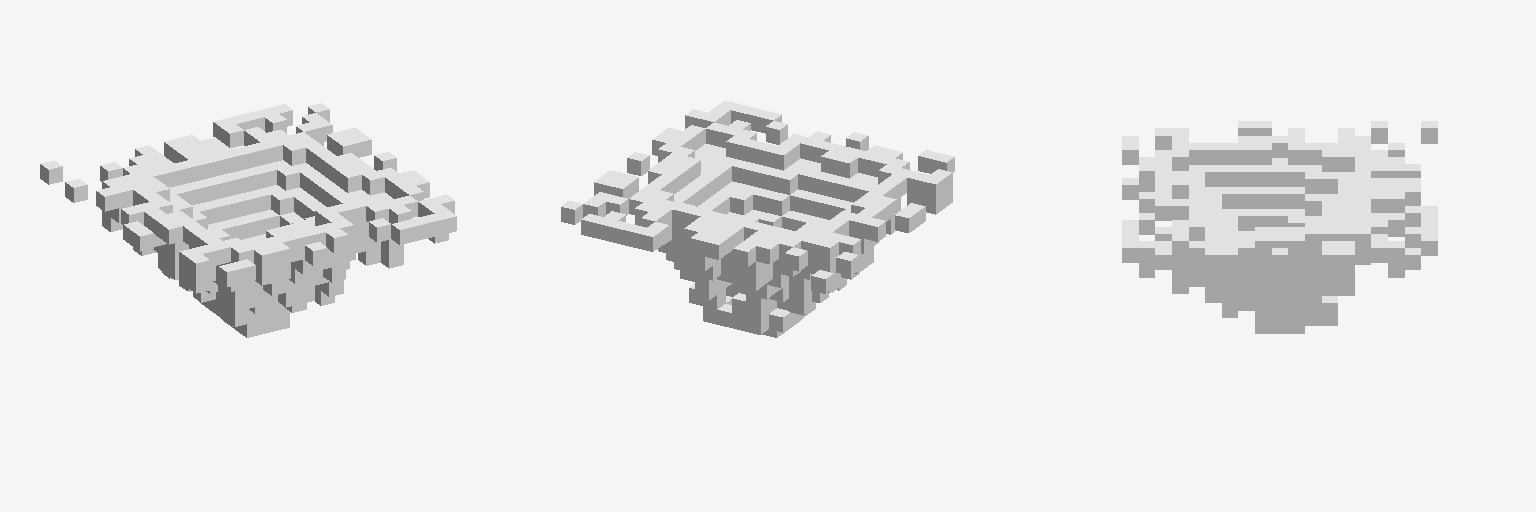
File: portal.obj
3 renders of one model, left to right at view 1: azimuth 30°, elevation 25°; view 2: azimuth 150°, elevation 25°; view 3: azimuth 270°, elevation 25°, orthographic.
Parts seen in each view (by area): view 1: portal.001; view 2: portal.001; view 3: portal.001.
Boxes of the visible parts, x1=… form: portal.001: x1=40, y1=103, x2=456, y2=337; portal.001: x1=561, y1=101, x2=954, y2=337; portal.001: x1=1122, y1=121, x2=1437, y2=333.
Bounding box in the file's own units: 1.9 × 0.9 × 1.9.